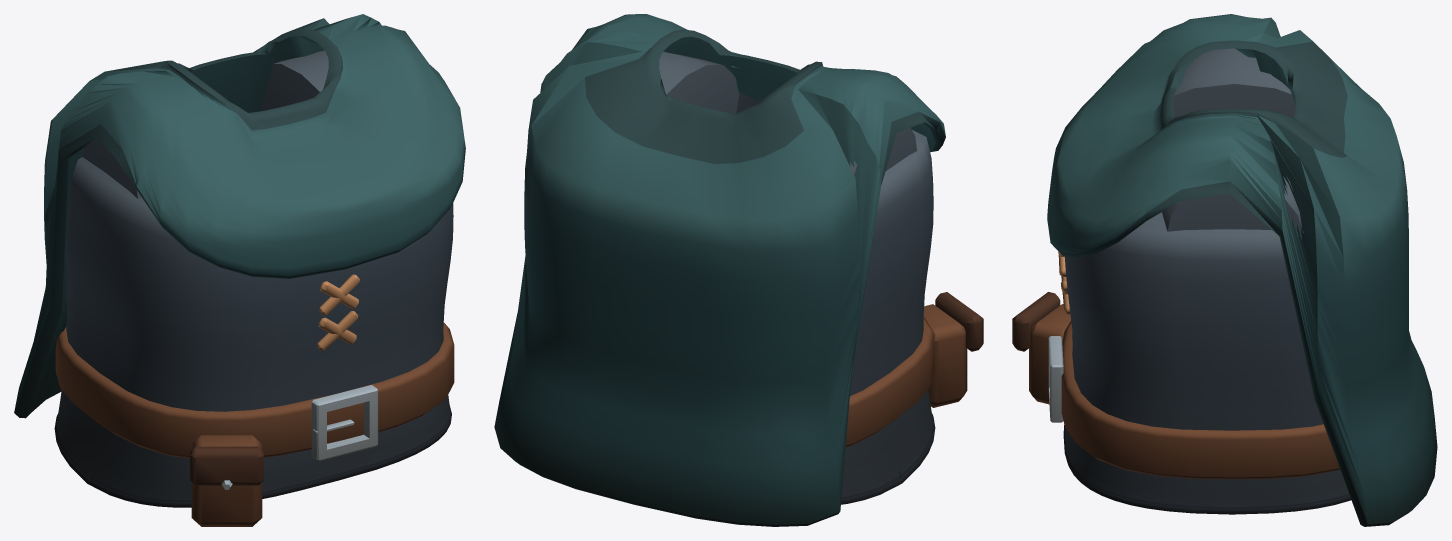
File: nightweave_armor.glb
3 renders of one model, left to right at view 1: azimuth 30°, elevation 25°; view 2: azimuth 150°, elevation 25°; view 3: azimuth 270°, elevation 25°, orthographic.
Visible parts, largest first — view 1: Item; view 2: Item; view 3: Item.
Boxes of the visible parts, box(x1,y1,x2,y2) form: Item: box(14, 14, 465, 526); Item: box(494, 14, 983, 526); Item: box(1012, 14, 1437, 526).
Size of the model in its own units: 0.8148 by 0.8728 by 0.8686.
3 materials, 3 textured.
